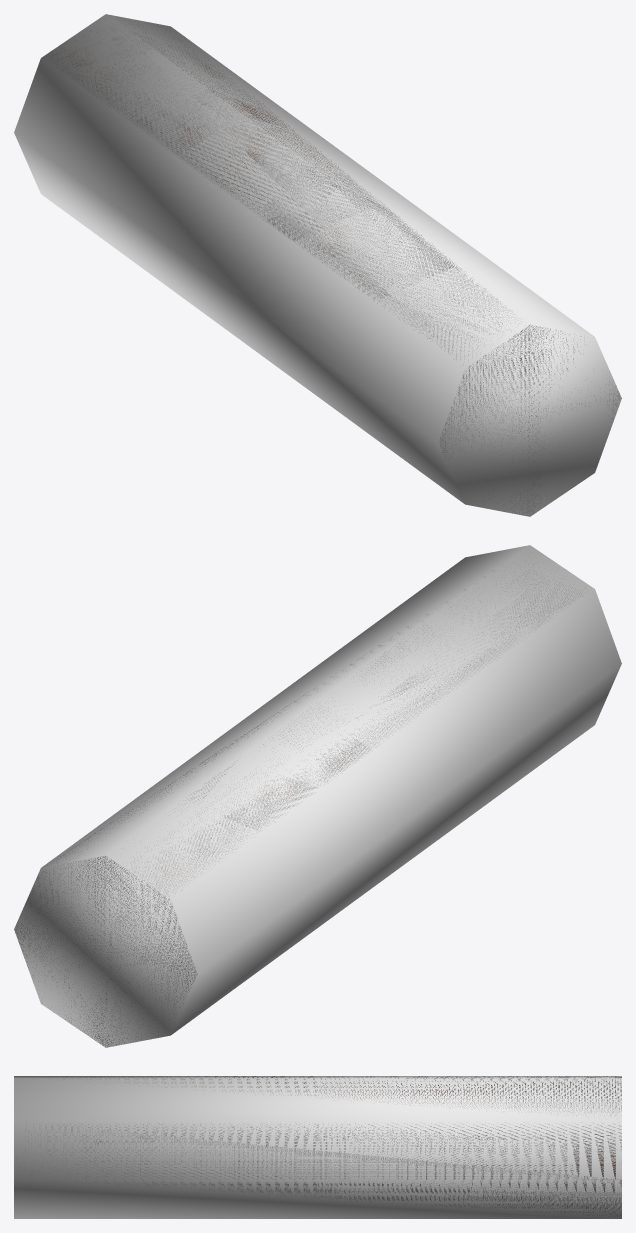
The model's file is torch-base.dae.
3 renders of one model, top to bottom at view 1: azimuth 30°, elevation 25°; view 2: azimuth 150°, elevation 25°; view 3: azimuth 270°, elevation 25°, orthographic. The views are drawn at different scales.
Visible parts, largest first — view 1: Cylinder, pos-z, neg-y; view 2: Cylinder, pos-z, pos-y; view 3: Cylinder, pos-x, pos-z.
Part boxes in pixels (x1,y1,x2,y2): Cylinder: (14,14,621,516); pos-z: (44,15,519,359); neg-y: (439,324,621,516); Cylinder: (14,545,621,1047); pos-z: (44,557,582,895); pos-y: (14,856,197,1047); Cylinder: (14,1076,621,1218); pos-x: (16,1122,621,1218); pos-z: (20,1076,621,1116).
Bounding box in the file's own units: 0.2 × 0.8 × 0.2.
